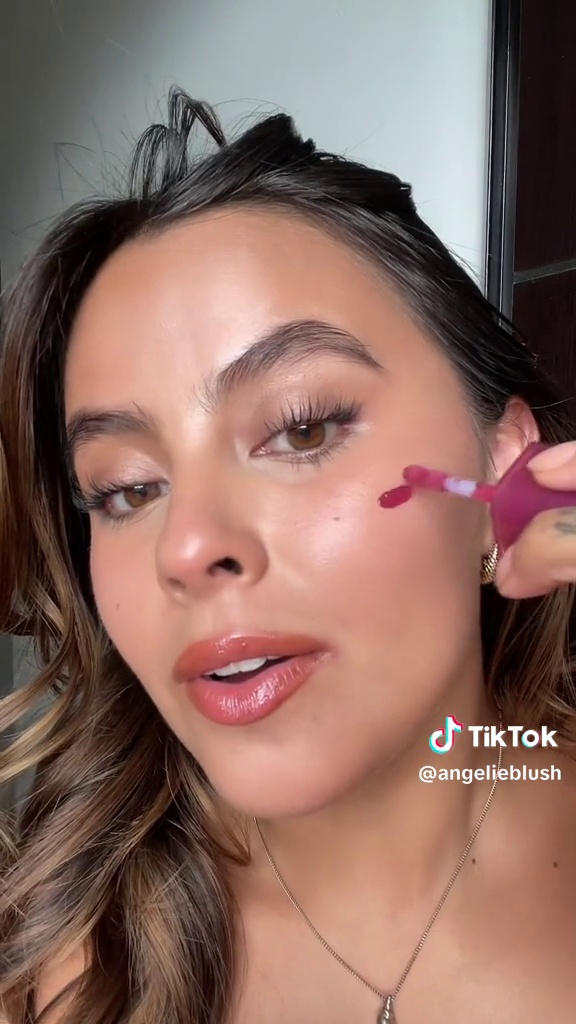train' :'yolo_data/train/images',: (380, 428, 575, 582)
